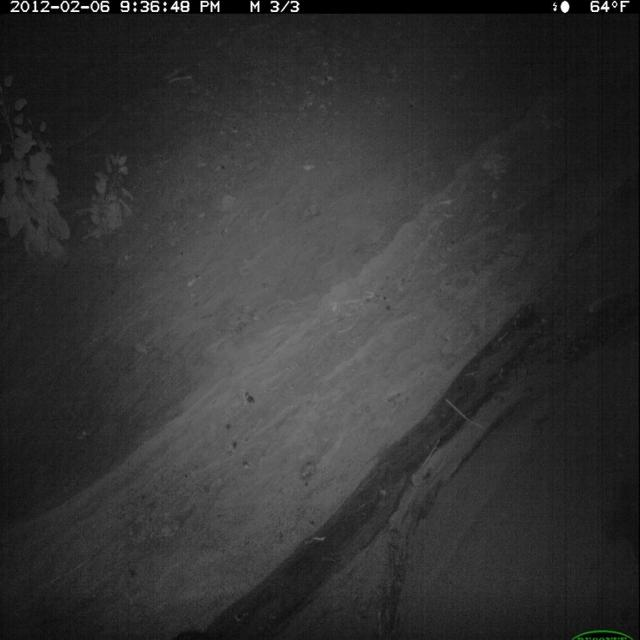raccoon: (171, 622, 226, 640)
